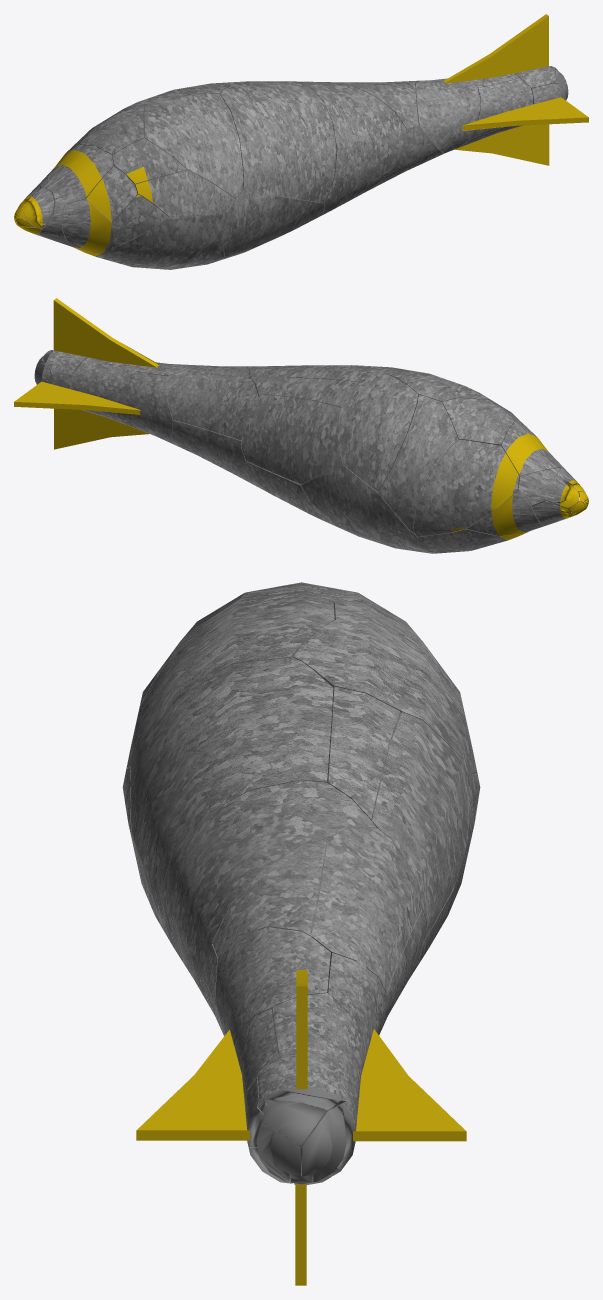
File: Bomb-fractured.fbx
3 renders of one model, top to bottom at view 1: azimuth 30°, elevation 25°; view 2: azimuth 150°, elevation 25°; view 3: azimuth 270°, elevation 25°, orthographic. The views are drawn at different scales.
Parts seen in each view (by area): view 1: BezierCurve_cell.006, BezierCurve_cell.042, BezierCurve_cell.015, BezierCurve_cell.019, BezierCurve_cell.032, BezierCurve_cell.022, BezierCurve_cell.026, BezierCurve.002, BezierCurve_cell.034, BezierCurve.004, BezierCurve_cell.024, BezierCurve.001 (+14 smaller); view 2: BezierCurve_cell.047, BezierCurve_cell.025, BezierCurve_cell.041, BezierCurve_cell.045, BezierCurve_cell.035, BezierCurve_cell.044, BezierCurve.002, BezierCurve_cell.046, BezierCurve_cell.008, BezierCurve_cell.033, BezierCurve.004, BezierCurve_cell.039 (+15 smaller); view 3: BezierCurve_cell.006, BezierCurve_cell.042, BezierCurve_cell.047, BezierCurve_cell.044, BezierCurve_cell.041, BezierCurve_cell.015, BezierCurve_cell.022, BezierCurve.003, BezierCurve.001, BezierCurve_cell.007, BezierCurve_cell.031, BezierCurve_cell.039 (+12 smaller).
Boxes of the visible parts, box(x1,y1,x2,y2) form: BezierCurve_cell.006: box(220, 84, 336, 202); BezierCurve_cell.042: box(302, 81, 406, 214); BezierCurve_cell.015: box(144, 93, 243, 198); BezierCurve_cell.019: box(222, 190, 324, 256); BezierCurve_cell.032: box(105, 215, 226, 268); BezierCurve_cell.022: box(416, 78, 479, 153); BezierCurve_cell.026: box(135, 170, 235, 216); BezierCurve.002: box(443, 14, 548, 83); BezierCurve_cell.034: box(48, 145, 113, 204); BezierCurve.004: box(455, 124, 549, 165); BezierCurve_cell.024: box(62, 199, 112, 255); BezierCurve.001: box(462, 97, 588, 130); BezierCurve_cell.047: box(242, 394, 342, 483); BezierCurve_cell.025: box(413, 440, 519, 536); BezierCurve_cell.041: box(339, 374, 418, 491); BezierCurve_cell.045: box(378, 394, 458, 533); BezierCurve_cell.035: box(301, 464, 418, 547); BezierCurve_cell.044: box(166, 370, 258, 440); BezierCurve.002: box(53, 298, 160, 367); BezierCurve_cell.046: box(115, 371, 173, 444); BezierCurve_cell.008: box(442, 397, 514, 445); BezierCurve_cell.033: box(172, 420, 248, 481); BezierCurve.004: box(54, 408, 148, 449); BezierCurve_cell.039: box(70, 357, 136, 423); BezierCurve_cell.006: box(130, 657, 333, 936); BezierCurve_cell.042: box(160, 780, 376, 995); BezierCurve_cell.047: box(372, 712, 468, 940); BezierCurve_cell.044: box(311, 828, 422, 992); BezierCurve_cell.041: box(293, 620, 476, 774); BezierCurve_cell.015: box(127, 592, 334, 768); BezierCurve_cell.022: box(215, 927, 330, 1045); BezierCurve.003: box(353, 1029, 466, 1141); BezierCurve.001: box(136, 1029, 249, 1140); BezierCurve_cell.007: box(212, 839, 327, 957); BezierCurve_cell.031: box(327, 686, 454, 904); BezierCurve_cell.039: box(272, 993, 365, 1101).
Size of the model in its own units: 227 by 64.44 by 64.44.
